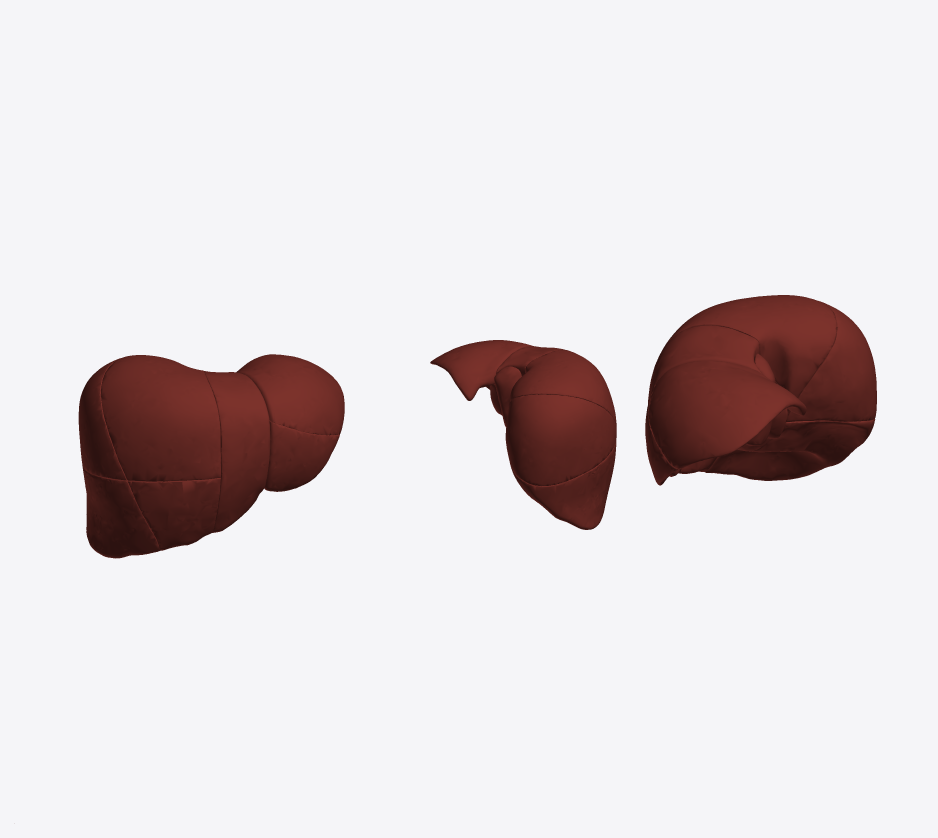
The model's file is jigar.glb.
3 renders of one model, left to right at view 1: azimuth 30°, elevation 25°; view 2: azimuth 150°, elevation 25°; view 3: azimuth 270°, elevation 25°, orthographic. The views are drawn at different scales.
Parts seen in each view (by area): view 1: jigar; view 2: jigar; view 3: jigar.
Part boxes in pixels (<box>): jigar: <box>78,354,344,558</box>; jigar: <box>430,340,616,529</box>; jigar: <box>645,295,876,485</box>.
Size of the model in its own units: 0.2441 by 0.7272 by 0.191.
